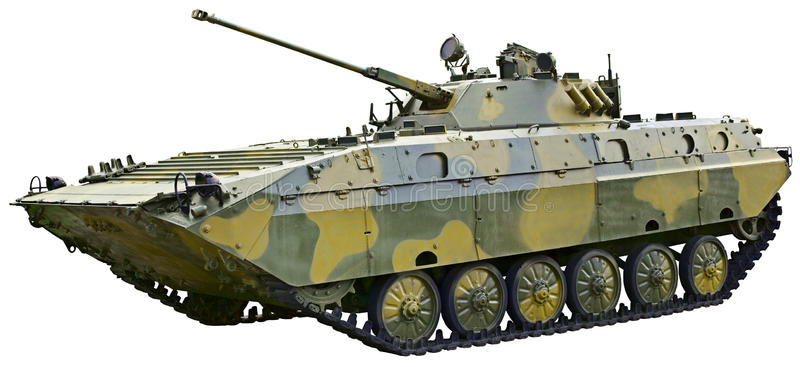bmp1: (21, 5, 792, 352)
